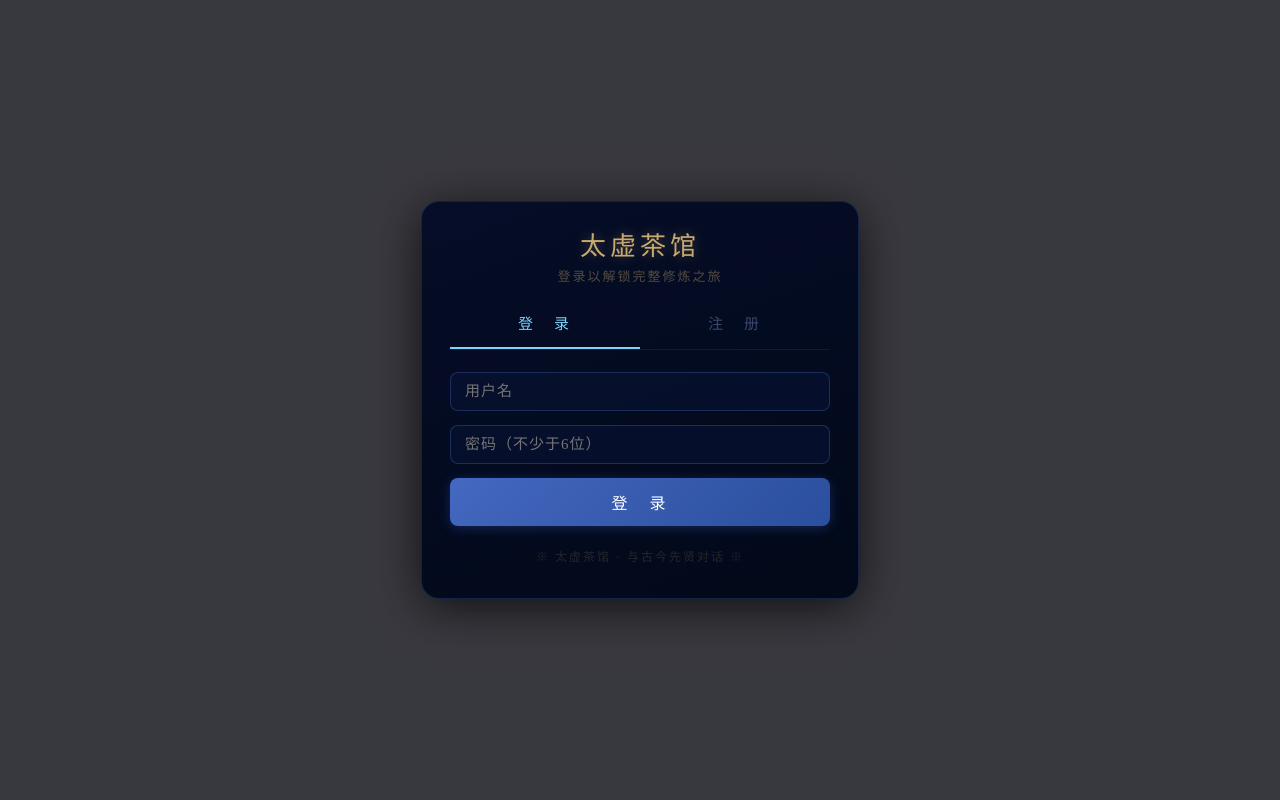
Test case: LoginModal › 表单验证 › 空用户名时显示错误提示
// 点击提交按钮（button 元素，文本含"登"）
Click the button "登 录" at x=640, y=502, box [450, 478, 830, 526]
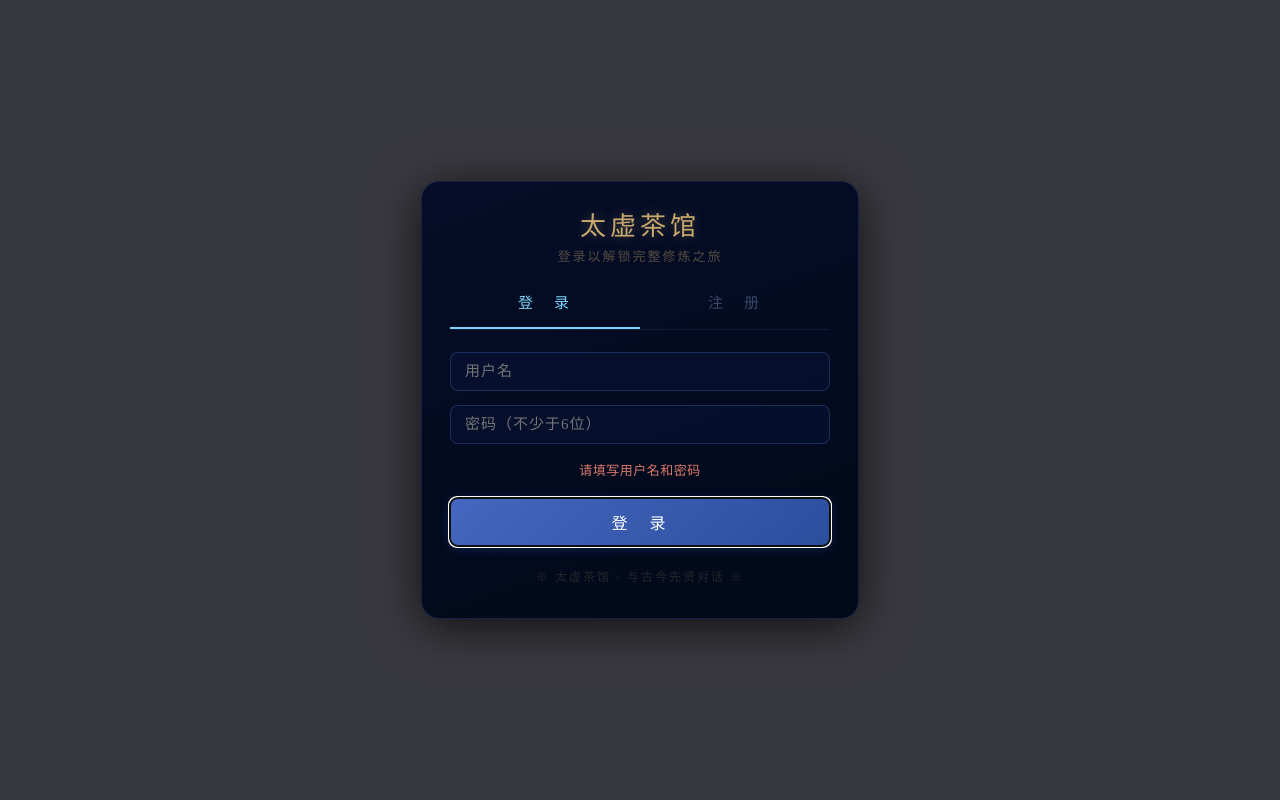
Result: the text "请填写用户名和密码" is shown at [579, 462, 701, 478]
